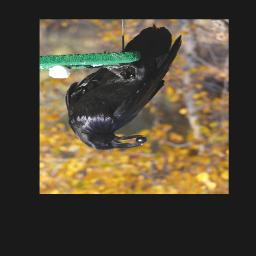Crow: (64, 24, 182, 150)
